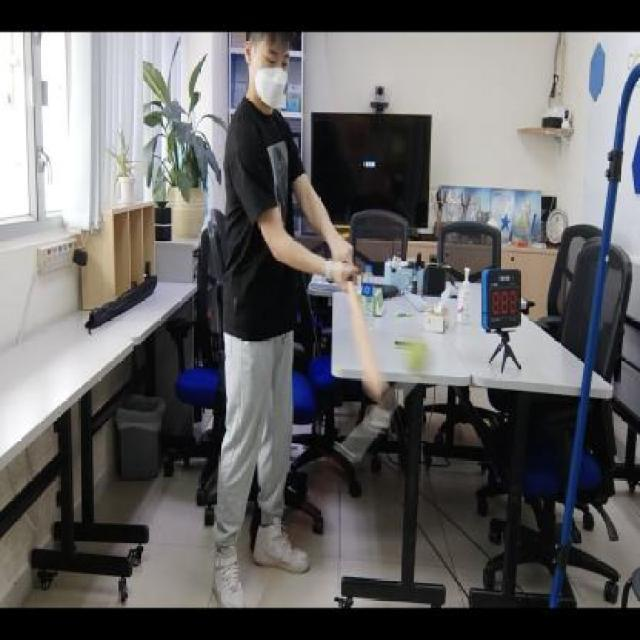ball: (399, 343, 435, 379)
bat: (346, 281, 396, 404)
